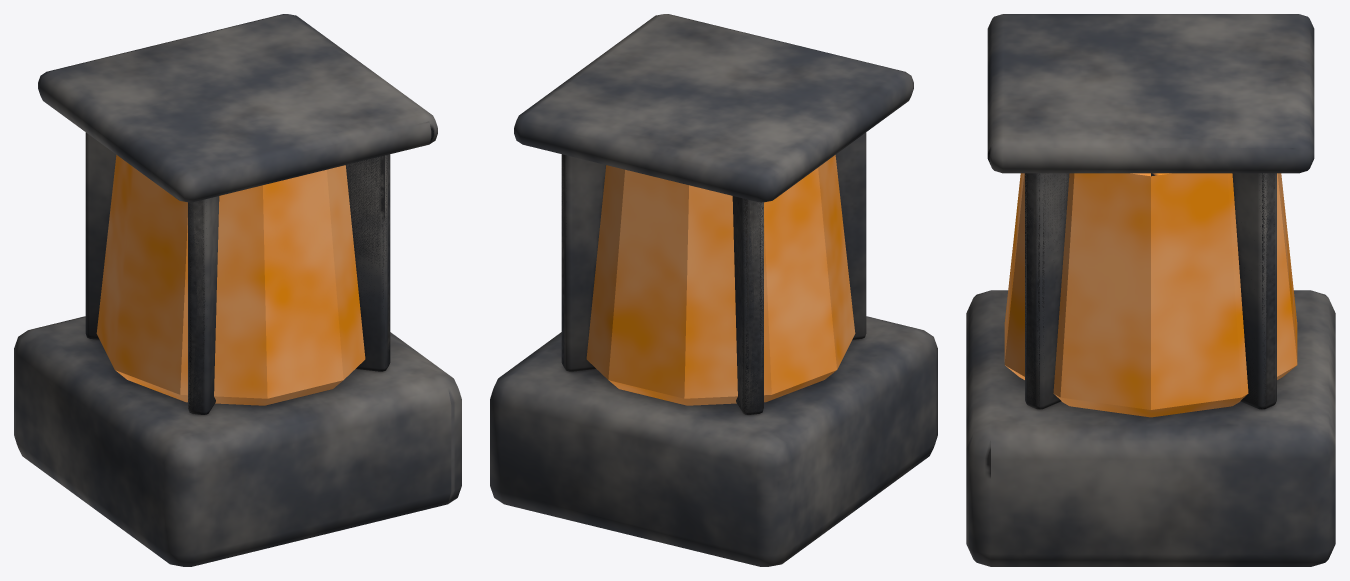
Rendered from siren_light.fbx.
The picture shows the model from 3 angles, left to right: view 1: azimuth 30°, elevation 25°; view 2: azimuth 150°, elevation 25°; view 3: azimuth 270°, elevation 25°; orthographic projection. The views are drawn at different scales.
Parts seen in each view (by area): view 1: Body, Glow; view 2: Body, Glow; view 3: Body, Glow.
Part boxes in pixels (x1,y1,x2,y2): Body: [14, 14, 461, 566]; Glow: [96, 155, 365, 405]; Body: [490, 14, 937, 566]; Glow: [586, 155, 855, 405]; Body: [966, 14, 1335, 566]; Glow: [1004, 173, 1297, 417].
Bounding box in the file's own units: 1.2 × 1.51 × 1.2.
Materials: 1 (1 with a texture image).
